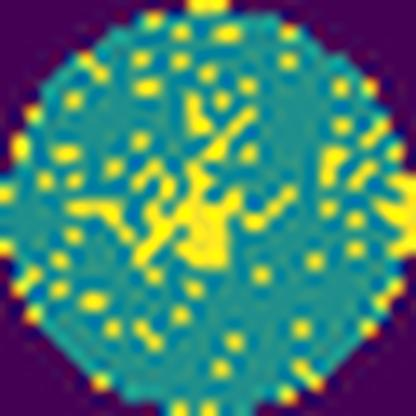Center: (131, 84, 266, 285)
